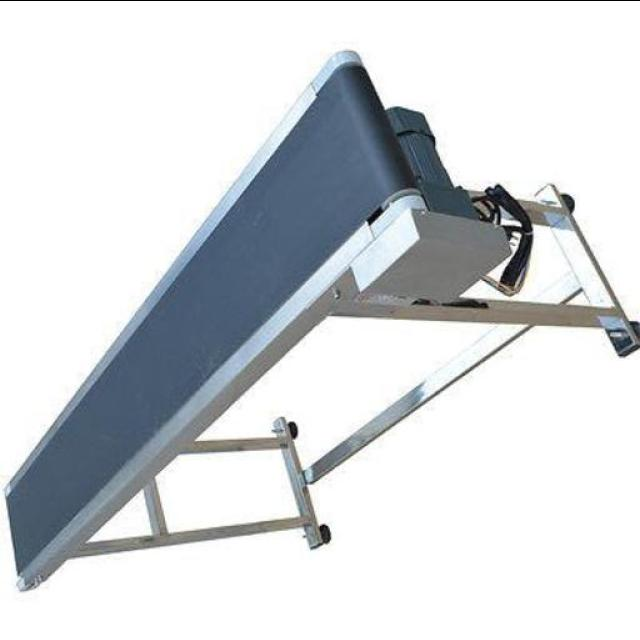conveyor: (1, 50, 431, 592)
